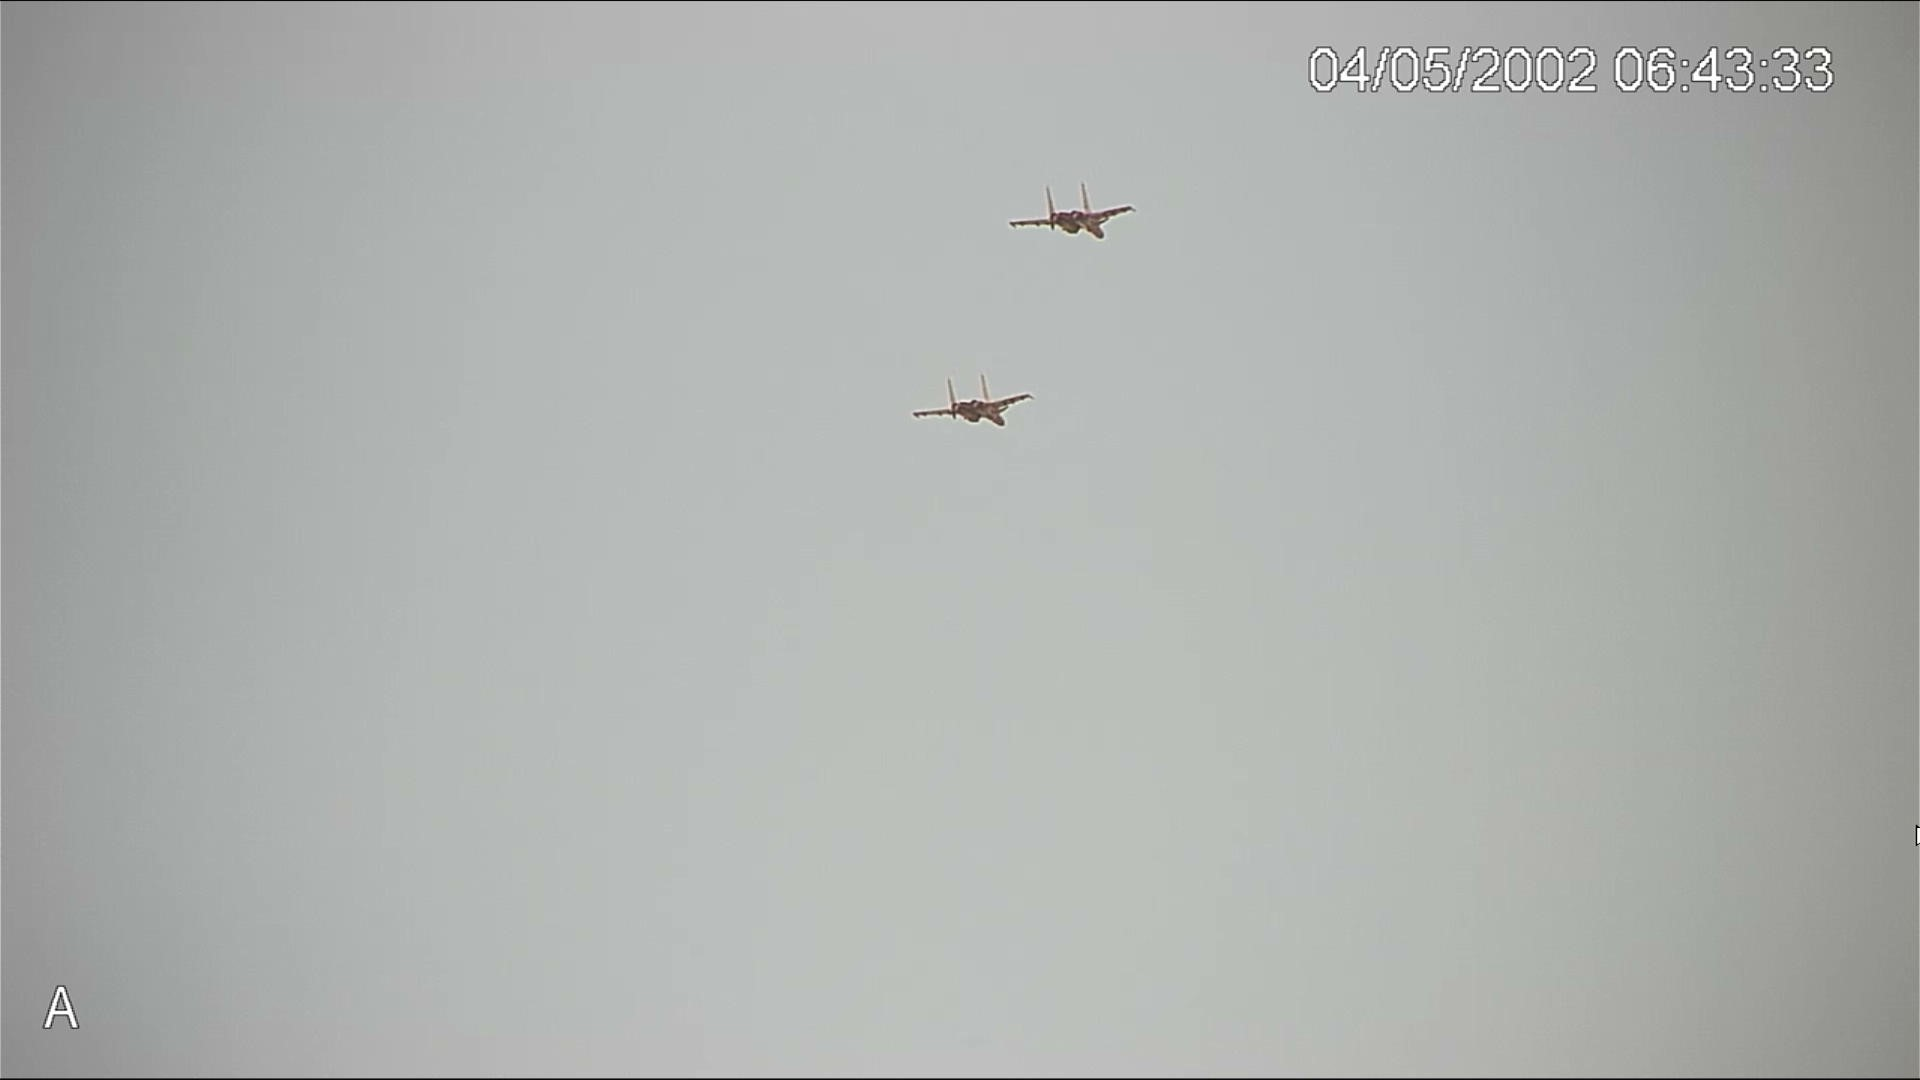SU_30: (1006, 181, 1145, 240), (913, 375, 1039, 430)
